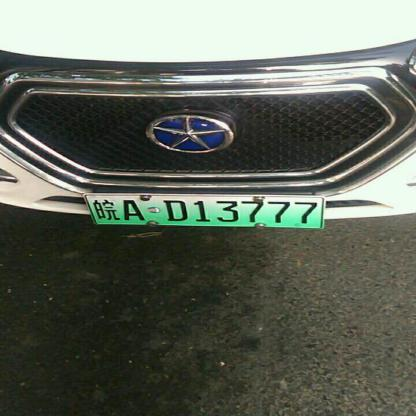lp: (84, 195, 322, 228)
